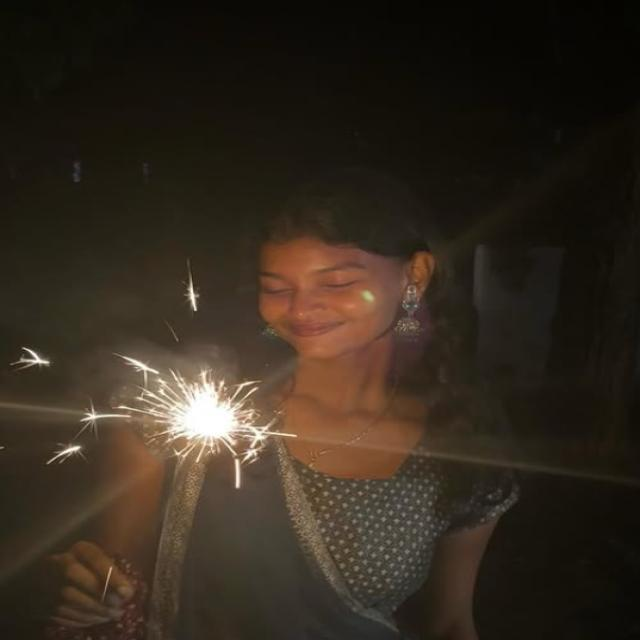fire: (113, 353, 296, 490)
